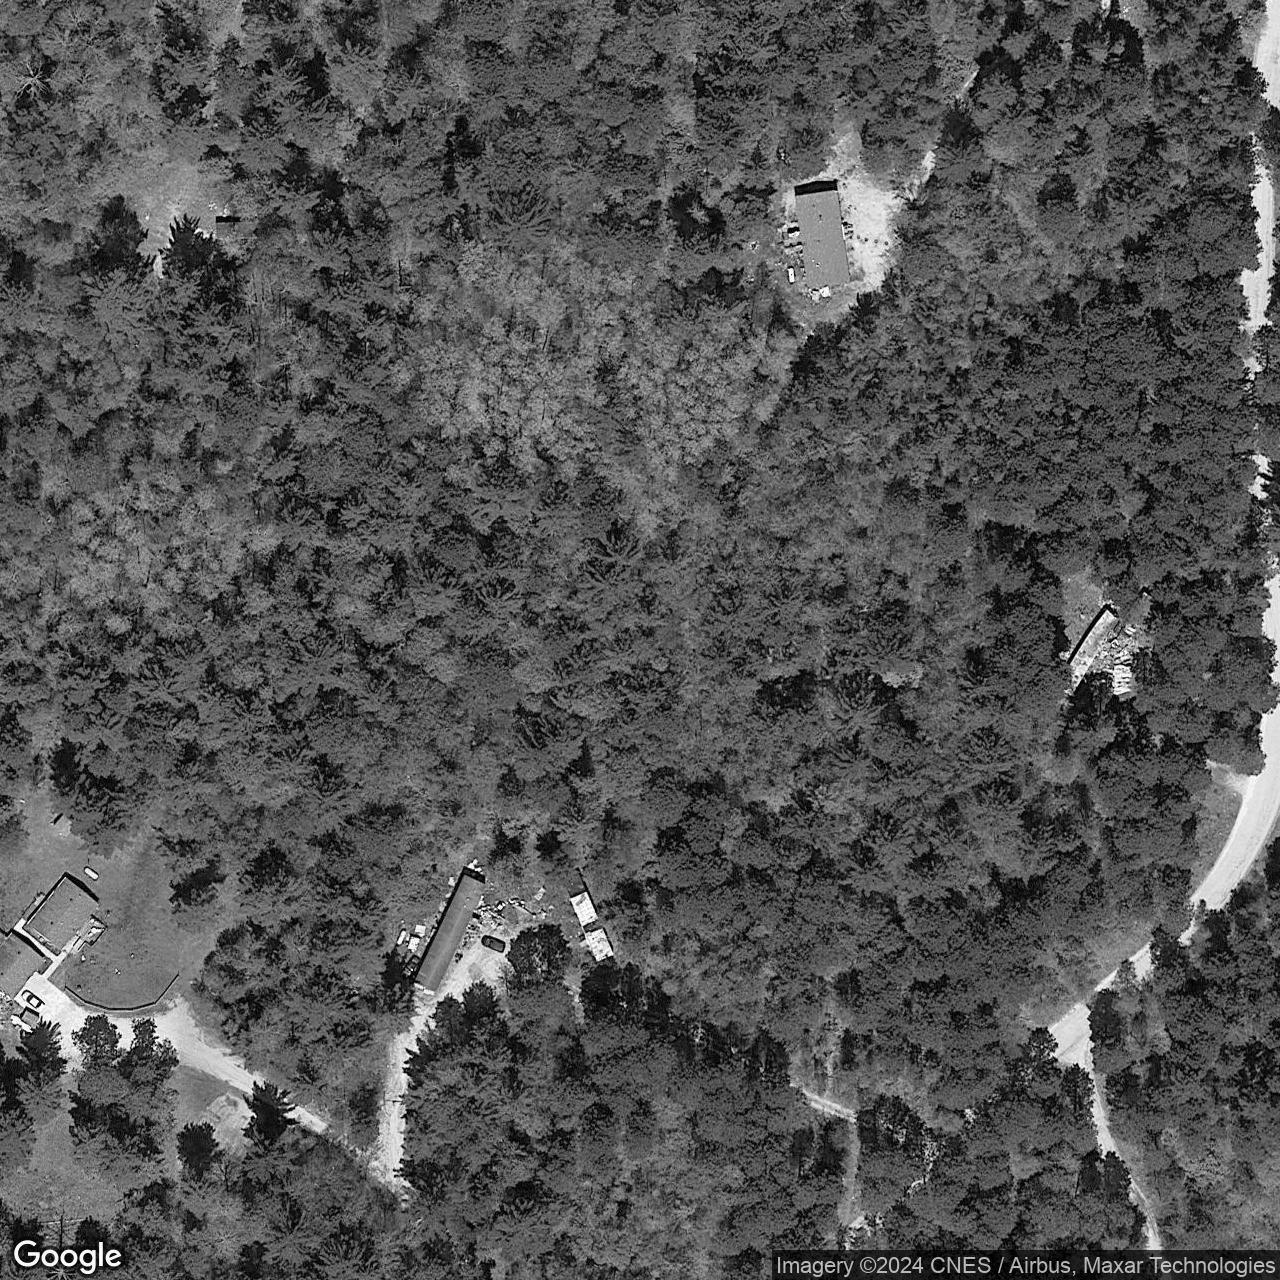House: (26, 873, 102, 954), (794, 188, 852, 291), (1, 932, 45, 1000)
Propane: (80, 862, 103, 884), (394, 927, 409, 947), (784, 264, 797, 285)
Trailer: (411, 871, 490, 993), (1053, 604, 1121, 697), (567, 890, 615, 965)
